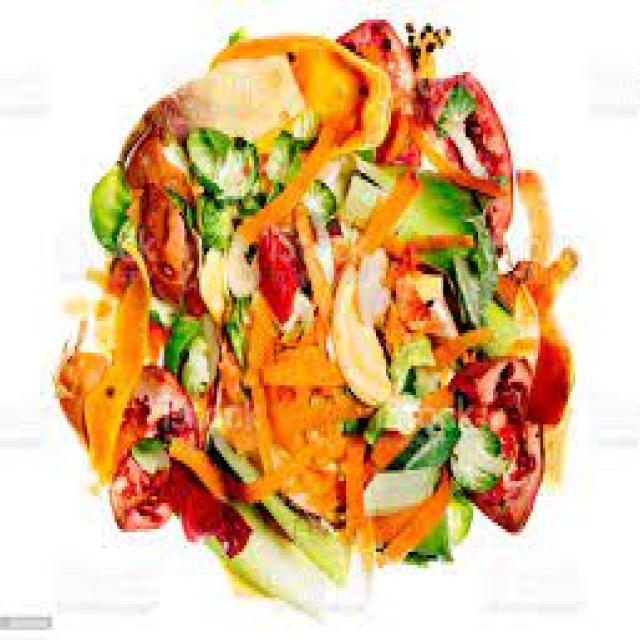Organik: (28, 3, 617, 634), (253, 203, 322, 339)
